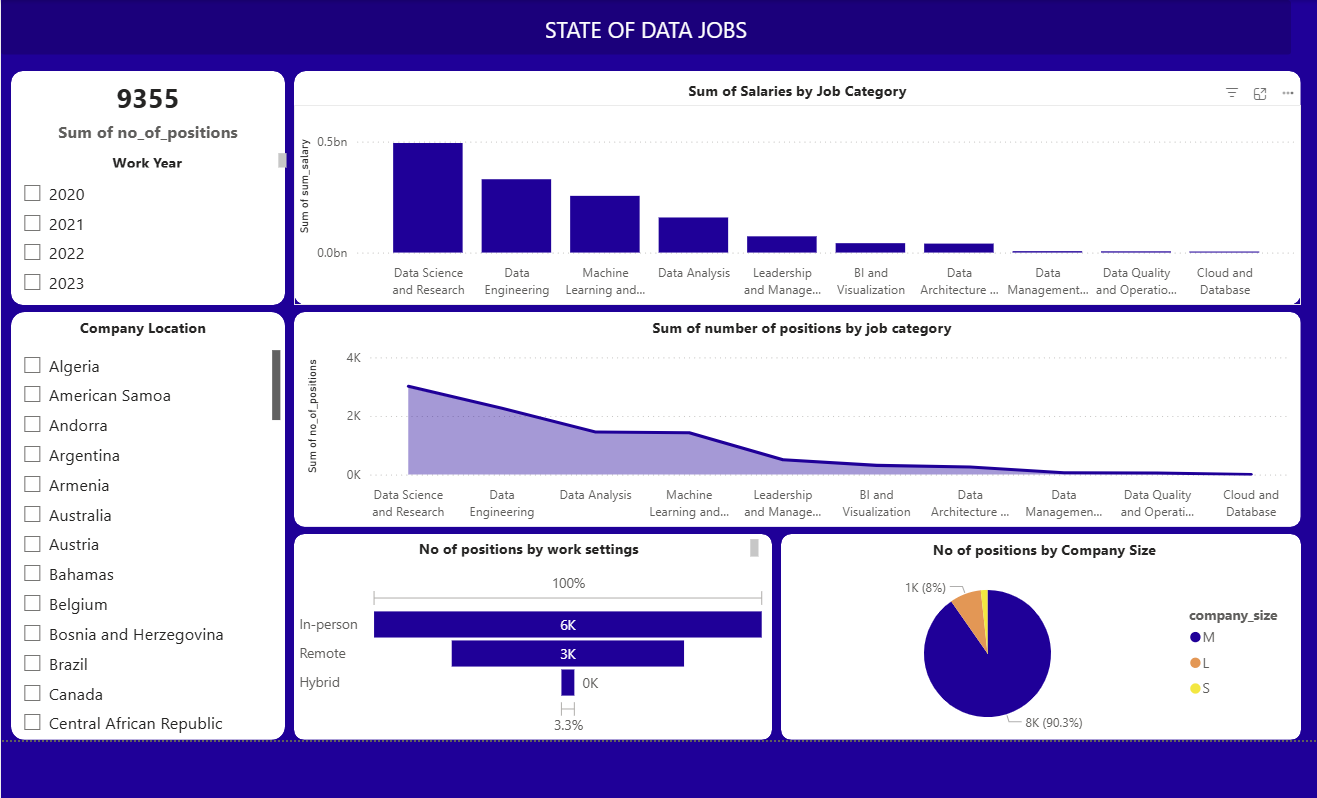

This screenshot's page, from the dashboard's own definition file:
{"tool":"powerbi","page":{"name":"Page 1","canvas":[1280,720],"ordinal":0},"visuals":[{"type":"shape","box":[0,0,1254.7,53.5],"z":0},{"type":"shape","box":[9.7,69.1,266.5,227.6],"z":1000},{"type":"textbox","box":[709.1,327.8,179.9,87.5],"z":2000},{"type":"textbox","box":[0,8.8,1254.7,44.7],"z":3000},{"type":"shape","box":[9.7,303.5,266.5,416.3],"z":4000},{"type":"shape","box":[285,519.4,464.9,200.4],"z":5000},{"type":"shape","box":[758.7,519.4,505.8,200.4],"z":6000},{"type":"shape","box":[285,303.5,979.5,209.1],"z":7000},{"type":"shape","box":[285,69.1,979.5,227.6],"z":8000},{"type":"clusteredColumnChart","fields":{"Category":["Jobs_in_data_summary.job_category"],"Y":["Sum(Jobs_in_data_summary.sum_salary)"]},"box":[285,102.1,979.5,194.5],"z":9000},{"type":"shape","box":[25.3,357,189.7,29.2],"z":10000},{"type":"textbox","box":[292.8,72.9,963.9,29.2],"z":11000},{"type":"stackedAreaChart","fields":{"Y":["Sum(Jobs_in_data_summary.no_of_positions)"],"Category":["Jobs_in_data_summary.job_category"]},"box":[292.8,333.6,971.7,179],"z":12000},{"type":"textbox","box":[301.5,303.5,955.1,30.2],"z":13000},{"type":"card","fields":{"Values":["Sum(Jobs_in_data_summary.no_of_positions)"]},"box":[9.7,69.1,266.5,74.9],"z":14000},{"type":"slicer","fields":{"Values":["Jobs_in_data_summary.company_location"]},"box":[9.7,335.6,266.5,384.2],"z":15000},{"type":"textbox","box":[16.5,303.5,243.2,32.1],"z":16000},{"type":"slicer","fields":{"Values":["Jobs_in_data_summary.work_year"]},"box":[9.7,168.3,266.5,128.4],"z":17000},{"type":"textbox","box":[9.7,144,273.3,24.3],"z":18000},{"type":"funnel","fields":{"Category":["Jobs_in_data_summary.work_setting"],"Y":["Sum(Jobs_in_data_summary.no_of_positions)"]},"box":[285,551.5,464.9,168.3],"z":19000},{"type":"textbox","box":[292.8,519.4,449.4,27.2],"z":20000},{"type":"pieChart","fields":{"Category":["Jobs_in_data_summary.company_size"],"Y":["Sum(Jobs_in_data_summary.no_of_positions)"]},"box":[758.7,551.5,505.8,168.3],"z":21000},{"type":"textbox","box":[765.5,519.4,499,32.1],"z":22000}]}

Visuals, with their boxes in screenshot pixels (x1, y1, x2, y2):
shape: 0, 3, 1273, 58
shape: 10, 74, 280, 304
textbox: 720, 336, 902, 425
textbox: 0, 12, 1273, 58
shape: 10, 311, 280, 734
shape: 289, 530, 761, 734
shape: 770, 530, 1283, 734
shape: 289, 311, 1283, 524
shape: 289, 74, 1283, 304
clusteredColumnChart - Jobs_in_data_summary.job_category x Sum(Jobs_in_data_summary.sum_salary): 289, 107, 1283, 304
shape: 26, 366, 218, 395
textbox: 297, 77, 1275, 107
stackedAreaChart - Sum(Jobs_in_data_summary.no_of_positions) x Jobs_in_data_summary.job_category: 297, 342, 1283, 524
textbox: 306, 311, 1275, 342
card - Sum(Jobs_in_data_summary.no_of_positions): 10, 74, 280, 150
slicer - Jobs_in_data_summary.company_location: 10, 344, 280, 734
textbox: 17, 311, 264, 344
slicer - Jobs_in_data_summary.work_year: 10, 174, 280, 304
textbox: 10, 150, 287, 174
funnel - Jobs_in_data_summary.work_setting x Sum(Jobs_in_data_summary.no_of_positions): 289, 563, 761, 734
textbox: 297, 530, 753, 558
pieChart - Jobs_in_data_summary.company_size x Sum(Jobs_in_data_summary.no_of_positions): 770, 563, 1283, 734
textbox: 777, 530, 1283, 563
